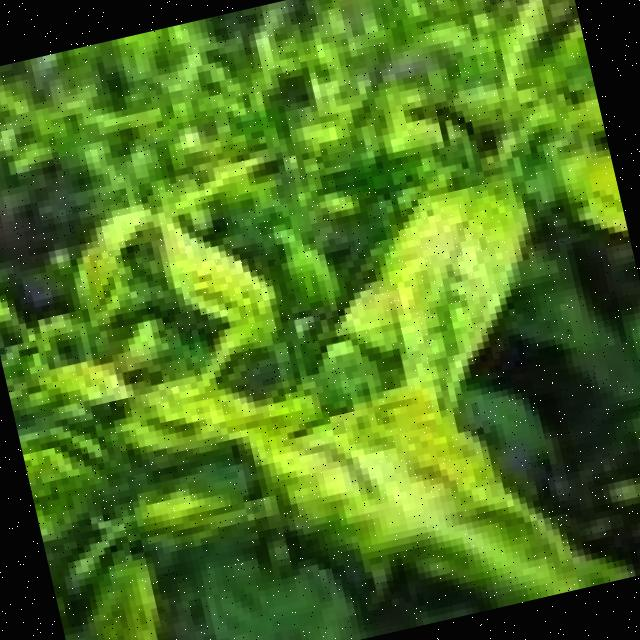leaf curl: (208, 317, 593, 629)
